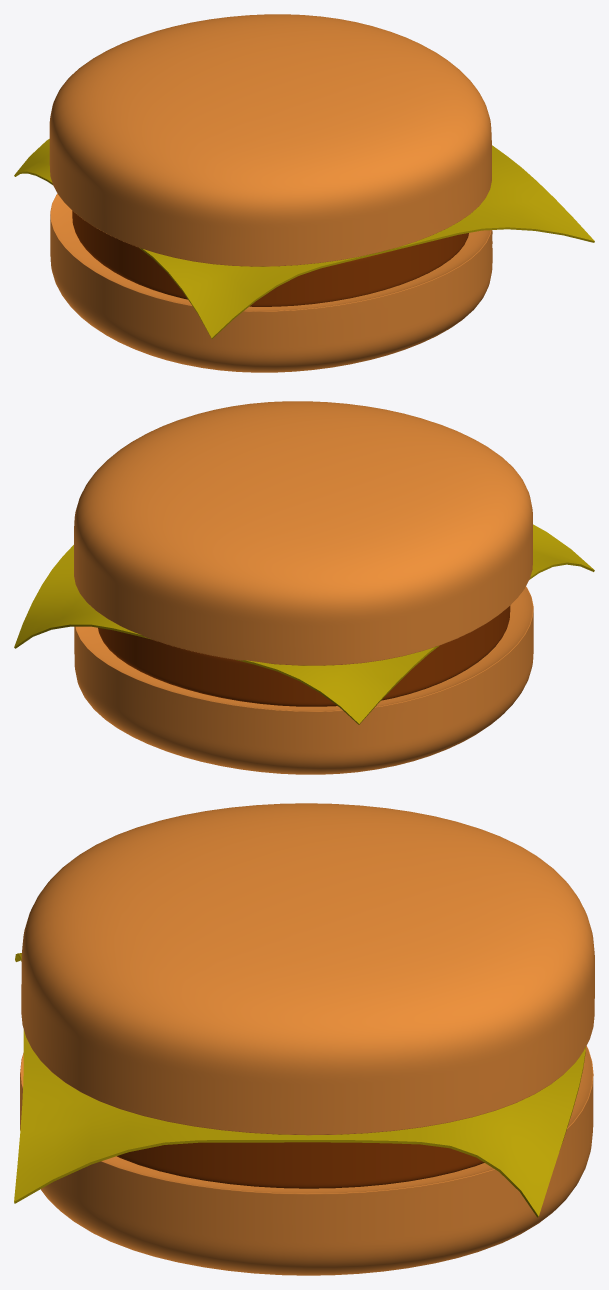
The model's file is hamburger.glb.
3 views of the same model, one above another, from view 1: azimuth 30°, elevation 25°; view 2: azimuth 150°, elevation 25°; view 3: azimuth 270°, elevation 25° (orthographic). The views are drawn at different scales.
Parts seen in each view (by area): view 1: Cube, Cube.002, Plane, Cube.001; view 2: Cube, Cube.002, Cube.001, Plane; view 3: Cube, Cube.002, Plane, Cube.001.
Boxes of the visible parts, box(x1,y1,x2,y2) form: Cube: box(49, 14, 491, 266); Cube.002: box(50, 193, 492, 372); Plane: box(14, 139, 594, 338); Cube.001: box(72, 211, 468, 306); Cube: box(74, 401, 532, 665); Cube.002: box(74, 586, 533, 774); Cube.001: box(98, 606, 510, 706); Plane: box(14, 524, 594, 724); Cube: box(21, 803, 594, 1135); Cube.002: box(20, 1046, 593, 1275); Plane: box(14, 953, 585, 1217); Cube.001: box(117, 1142, 484, 1188).
Bounding box in the file's own units: 1.96 × 1.09 × 1.86.
